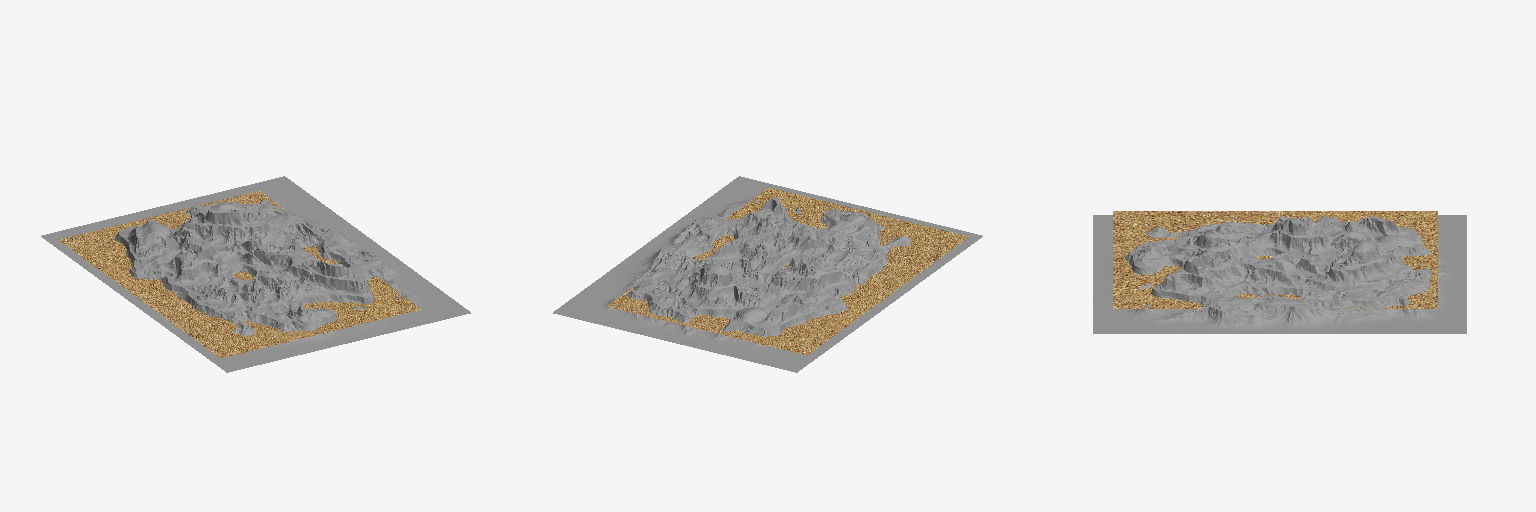
3 renders of one model, left to right at view 1: azimuth 30°, elevation 25°; view 2: azimuth 150°, elevation 25°; view 3: azimuth 270°, elevation 25°, orthographic.
Parts seen in each view (by area): view 1: Landscape.000_Landscape.000, default; view 2: Landscape.000_Landscape.000, default; view 3: Landscape.000_Landscape.000, default.
Boxes of the visible parts, box(x1,y1,x2,y2) form: Landscape.000_Landscape.000: box(41, 176, 470, 372); default: box(59, 191, 421, 357); Landscape.000_Landscape.000: box(553, 176, 982, 372); default: box(606, 188, 968, 355); Landscape.000_Landscape.000: box(1093, 215, 1466, 333); default: box(1113, 211, 1437, 308).
Size of the model in its own units: 310 by 44.78 by 410.
Materials: 2 (1 with a texture image).